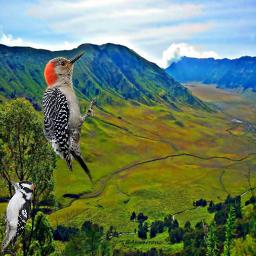Woodpecker: (37, 48, 96, 190), (1, 177, 37, 254)
